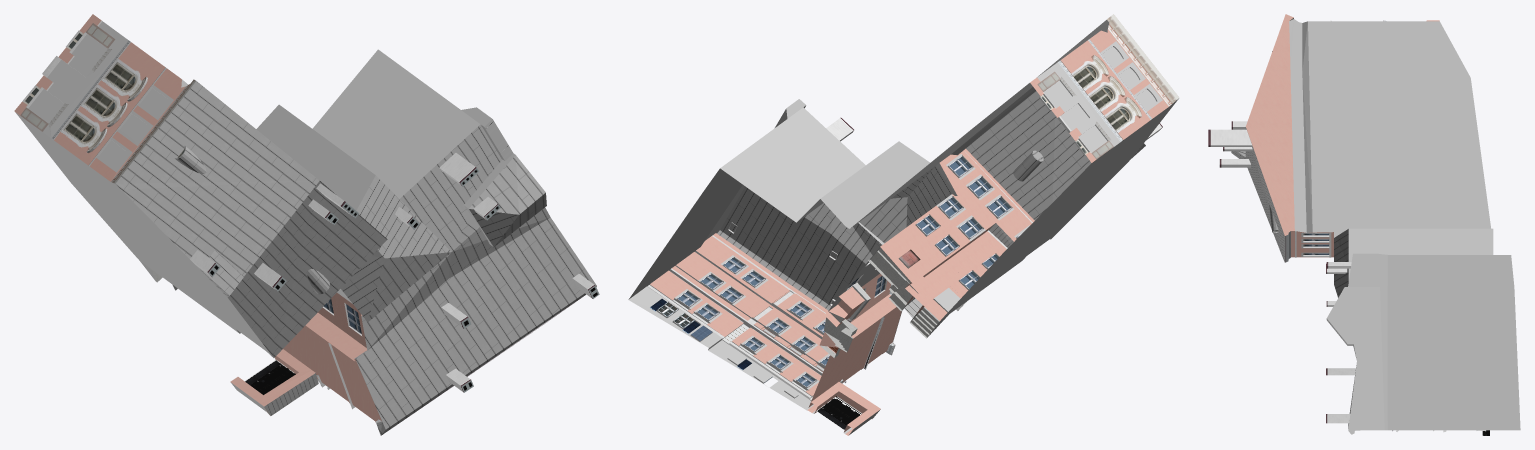
Rendered from Pikk_22.obj.
The picture shows the model from 3 angles, left to right: view 1: azimuth 30°, elevation 25°; view 2: azimuth 150°, elevation 25°; view 3: azimuth 270°, elevation 25°; orthographic projection. The views are drawn at different scales.
Visible parts, largest first — view 1: Pikk_22; view 2: Pikk_22; view 3: Pikk_22.
Boxes of the visible parts, x1,y1,x2,y2 form: Pikk_22: [14, 14, 599, 435]; Pikk_22: [628, 14, 1179, 435]; Pikk_22: [1208, 14, 1520, 435].
Size of the model in its own units: 39.97 by 33.6 by 27.56.
